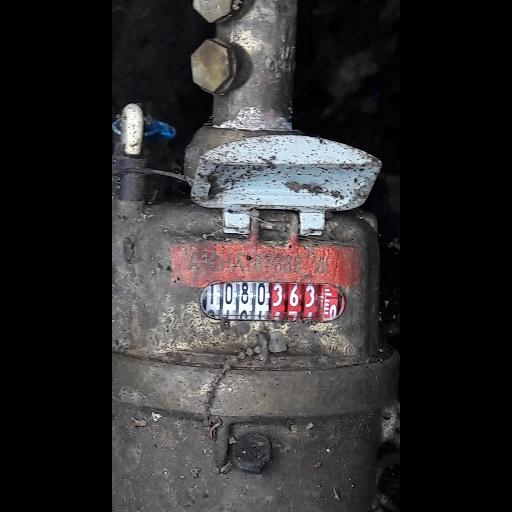0: (223, 281, 238, 319), (255, 282, 270, 320)
1: (206, 283, 221, 319)
3: (268, 282, 286, 321), (303, 283, 319, 322)
6: (286, 282, 303, 321)
8: (238, 282, 254, 321)
9: (321, 285, 339, 321)
border_water_meter_number: (200, 280, 347, 323)
